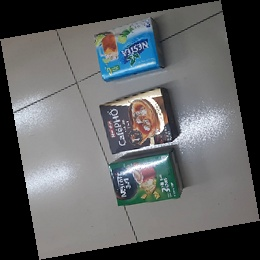CF pho: (99, 84, 180, 155)
Nes Rang: (107, 148, 184, 208)
Nestea: (93, 17, 165, 84)
